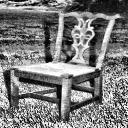chair_success: (5, 7, 124, 123)
